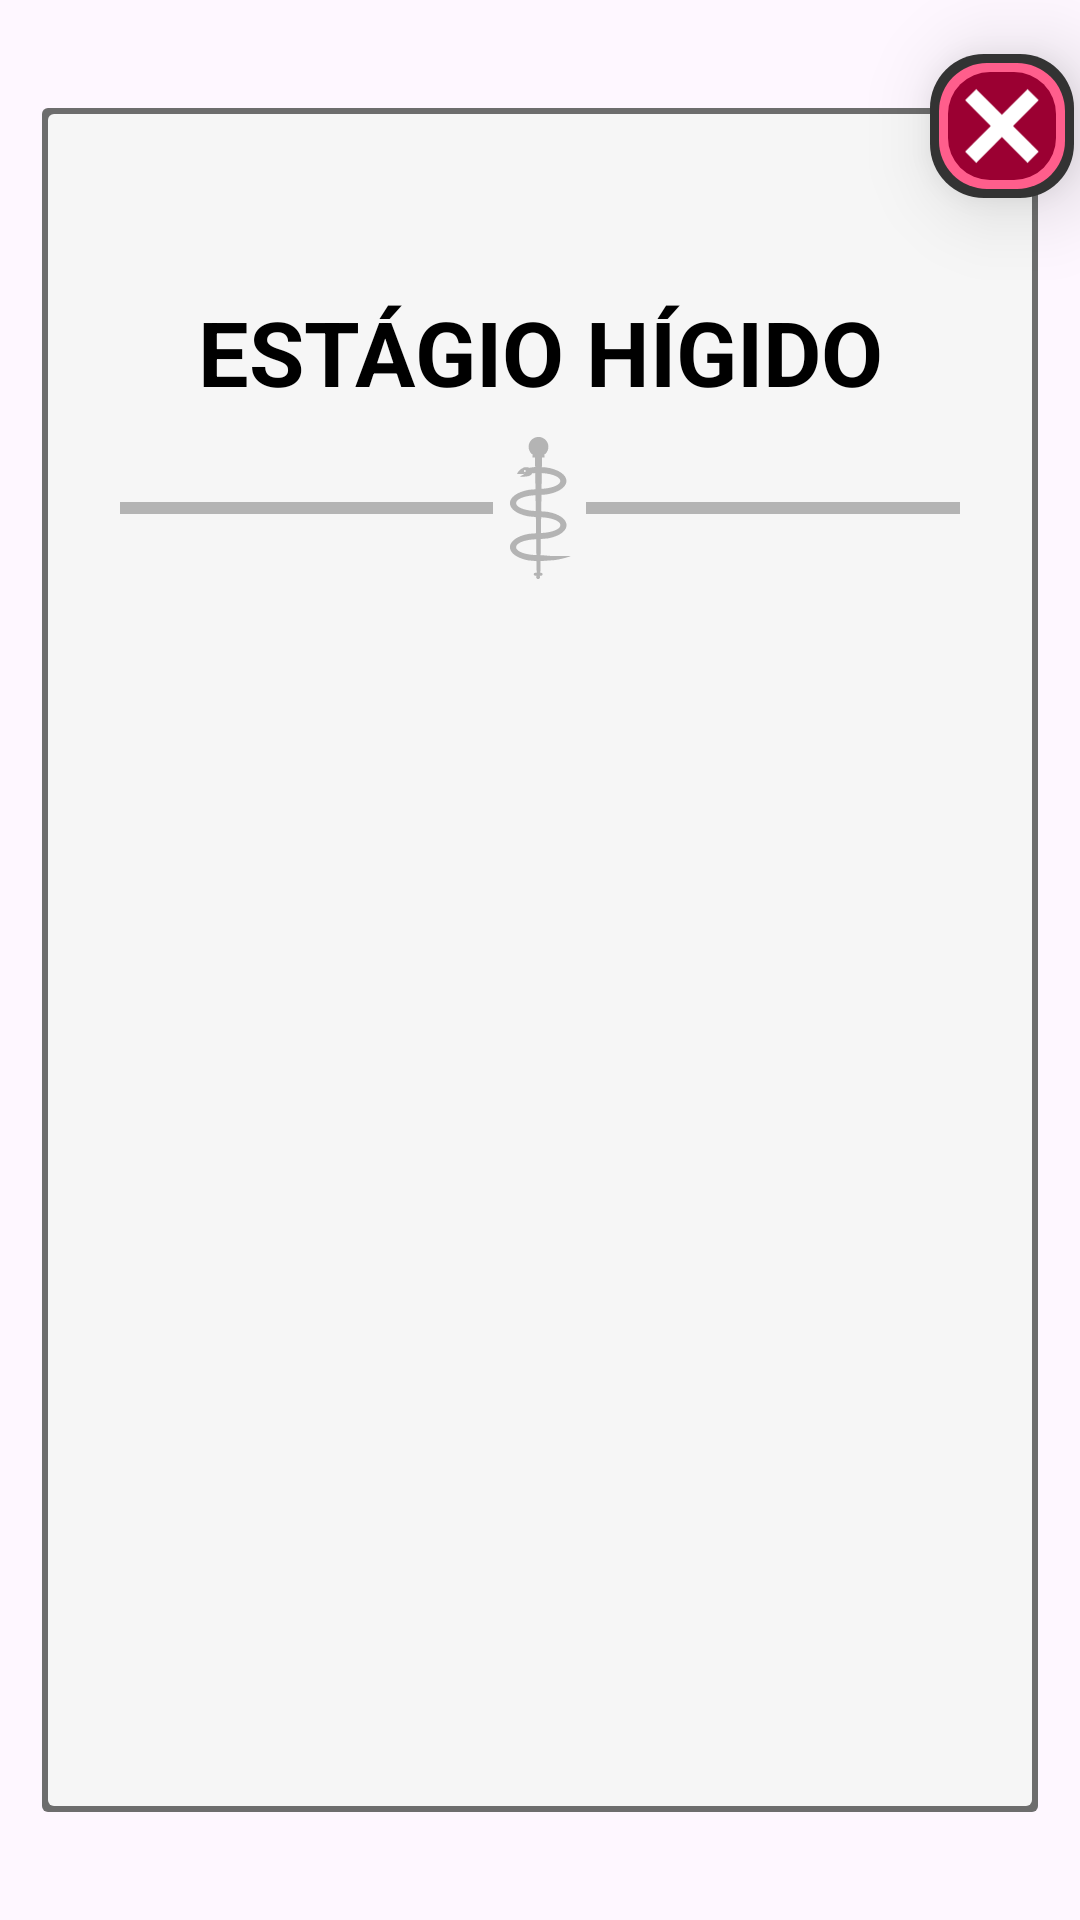

Point at icon controls on the screen. Image size 1080px x 1920px, points as point (x, y).
odonto symbol: point (540, 508)
